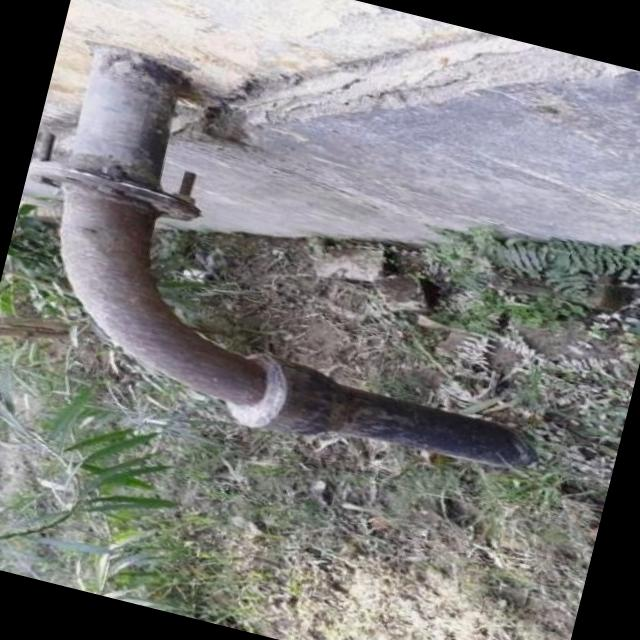gas: (54, 47, 534, 466)
